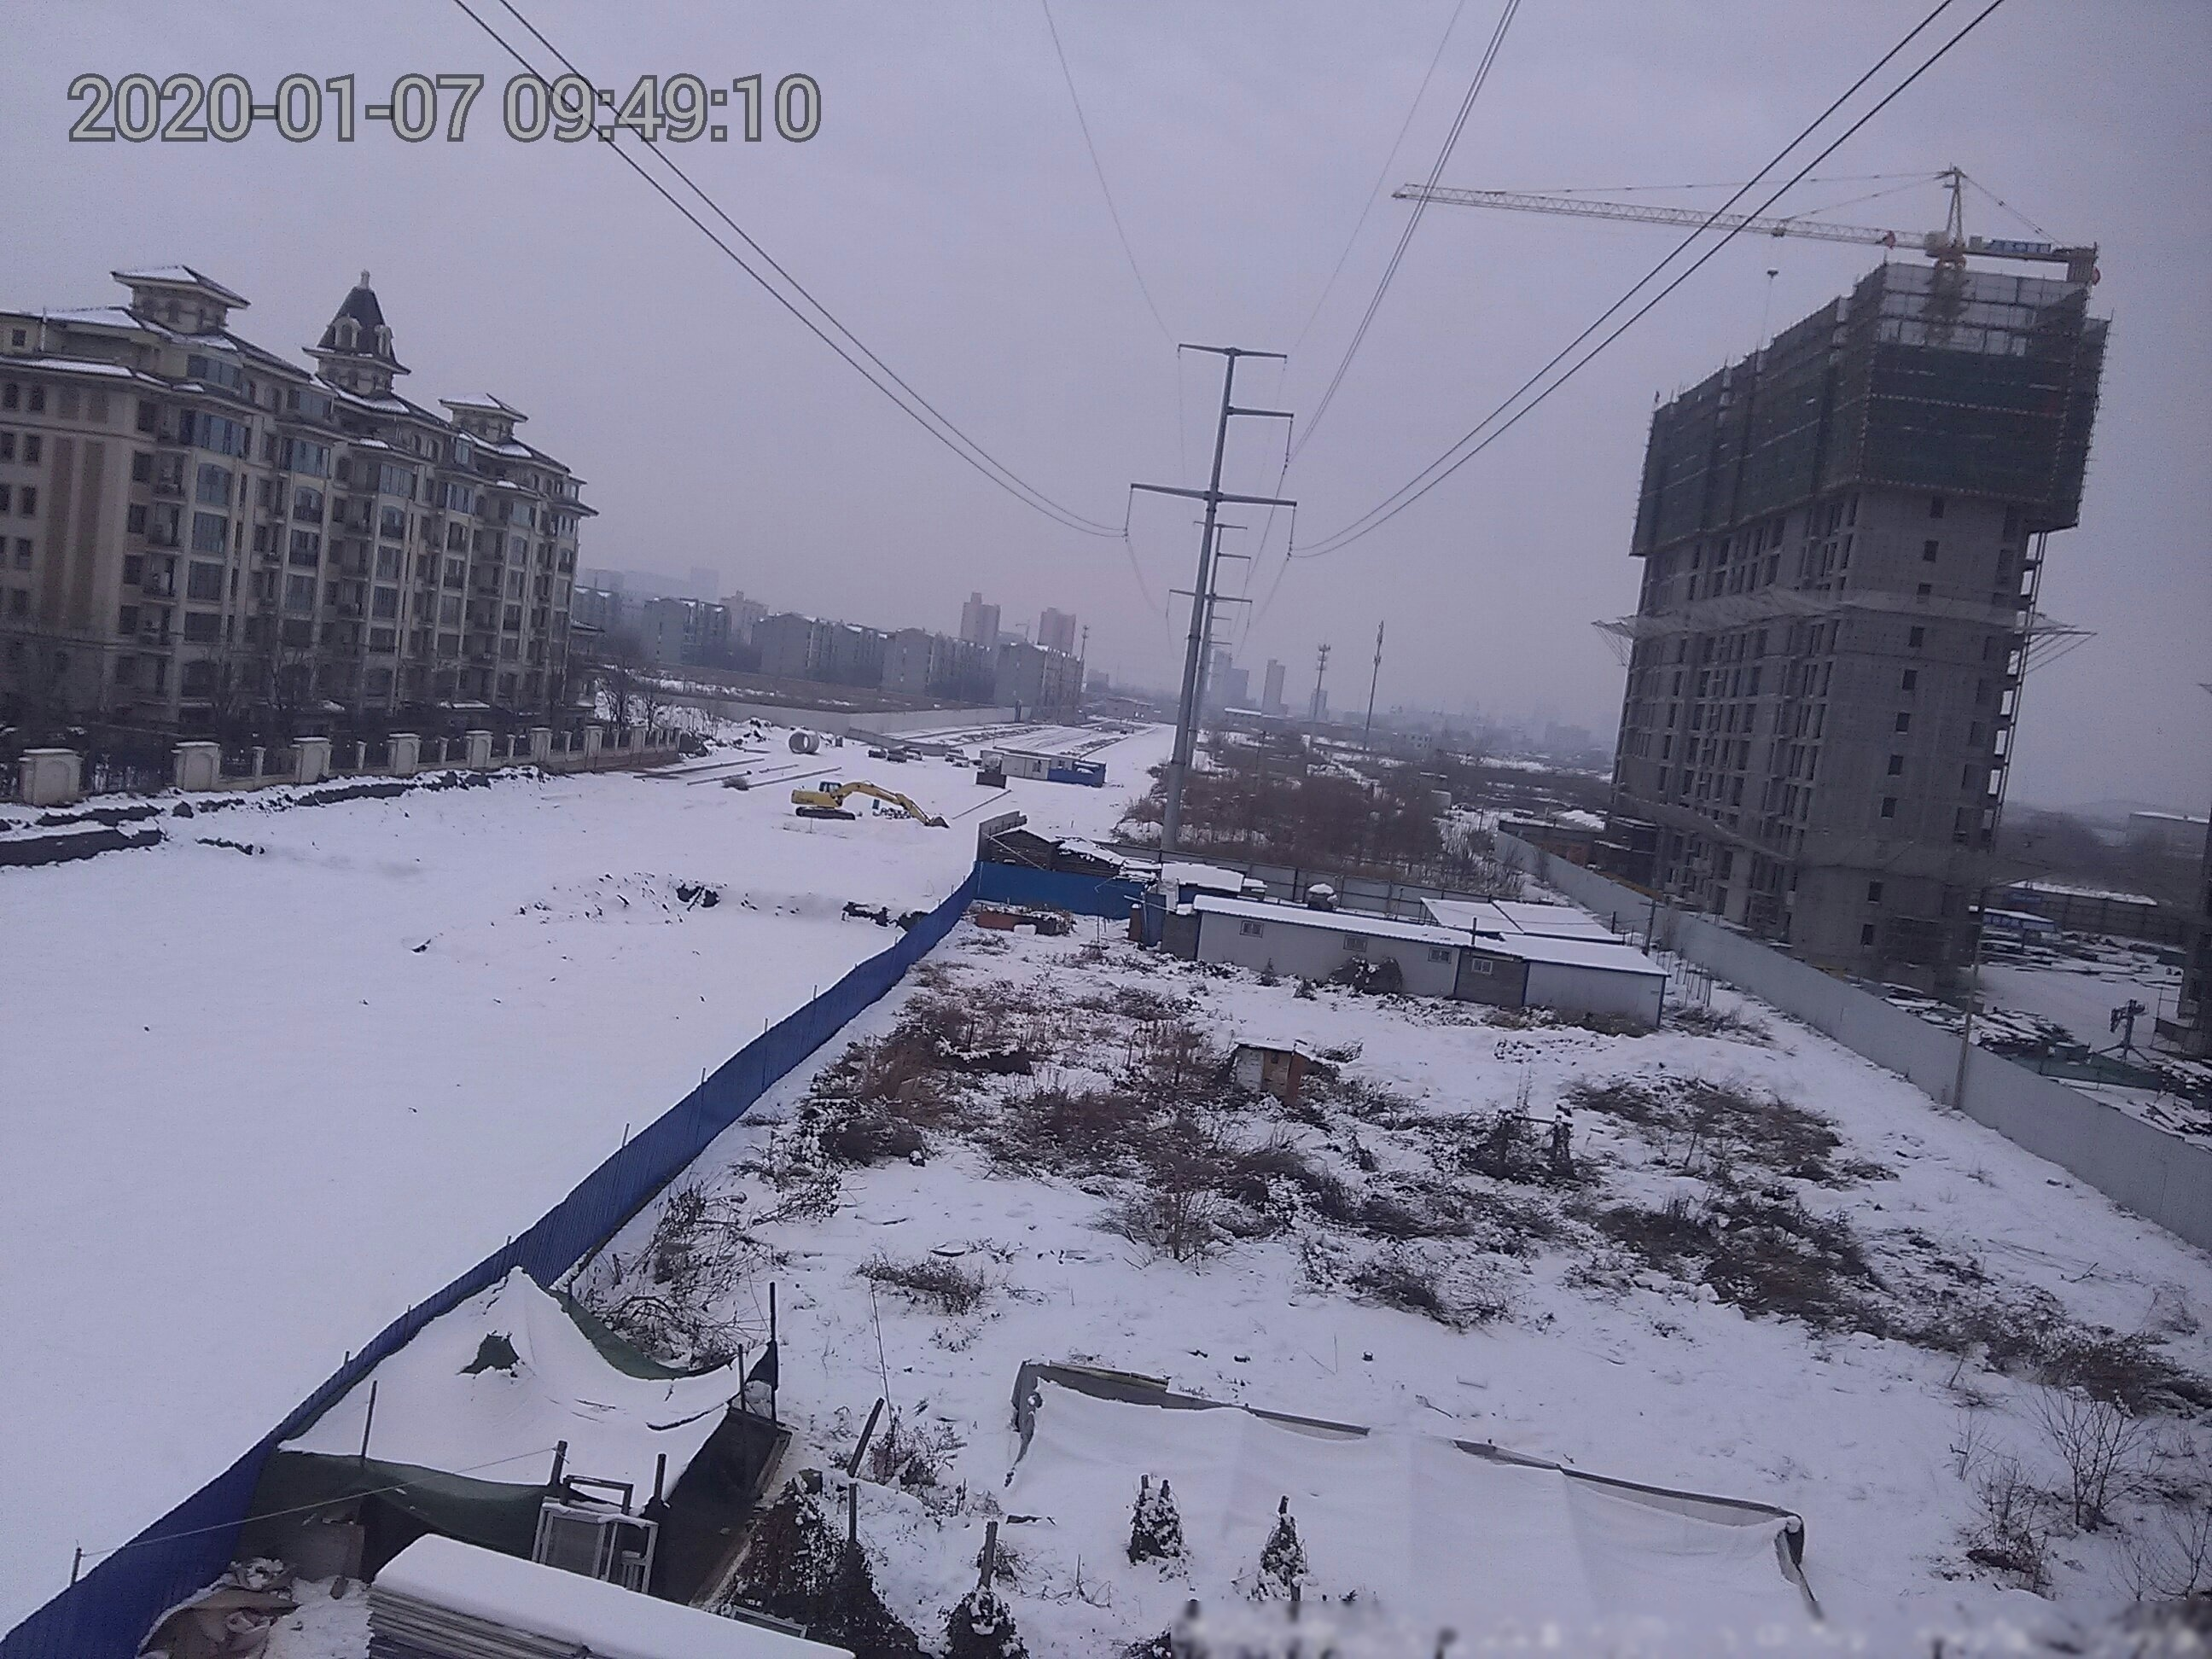gouche: (806, 763, 958, 831)
tadiao: (1397, 157, 2106, 291)
